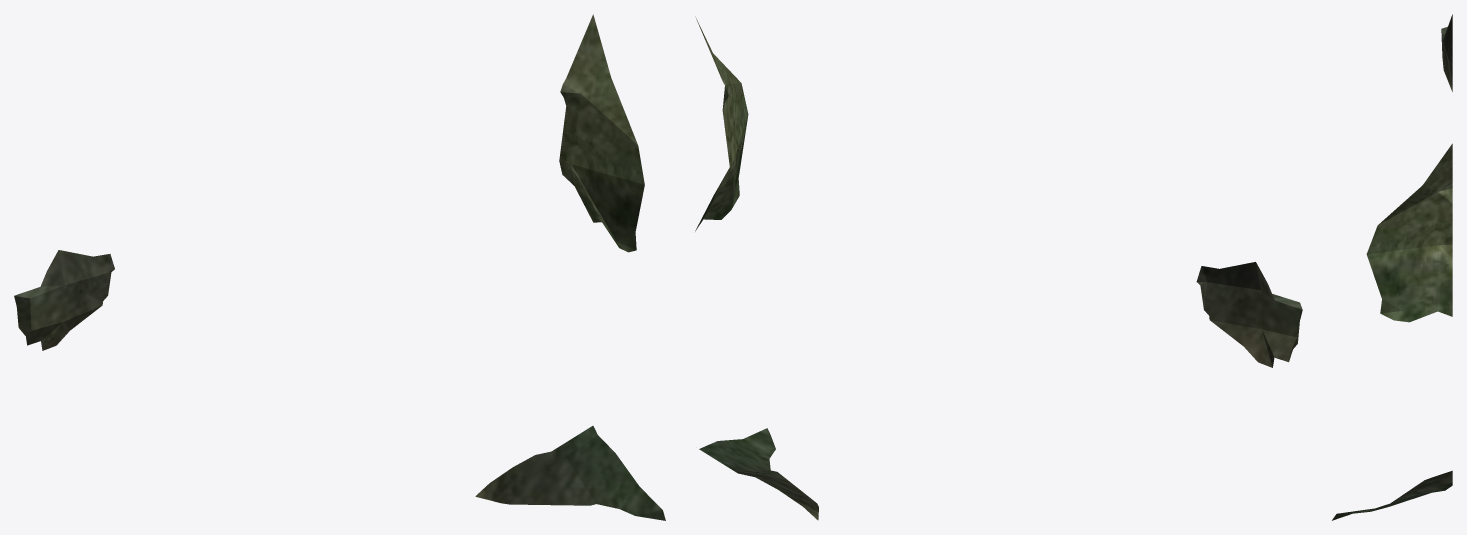
3 views of the same model, side by side, from view 1: azimuth 30°, elevation 25°; view 2: azimuth 150°, elevation 25°; view 3: azimuth 270°, elevation 25° (orthographic). The views are drawn at different scales.
Bounding box in the file's own units: 2.85 × 2.14 × 0.6201.
1 material, 1 textured.
